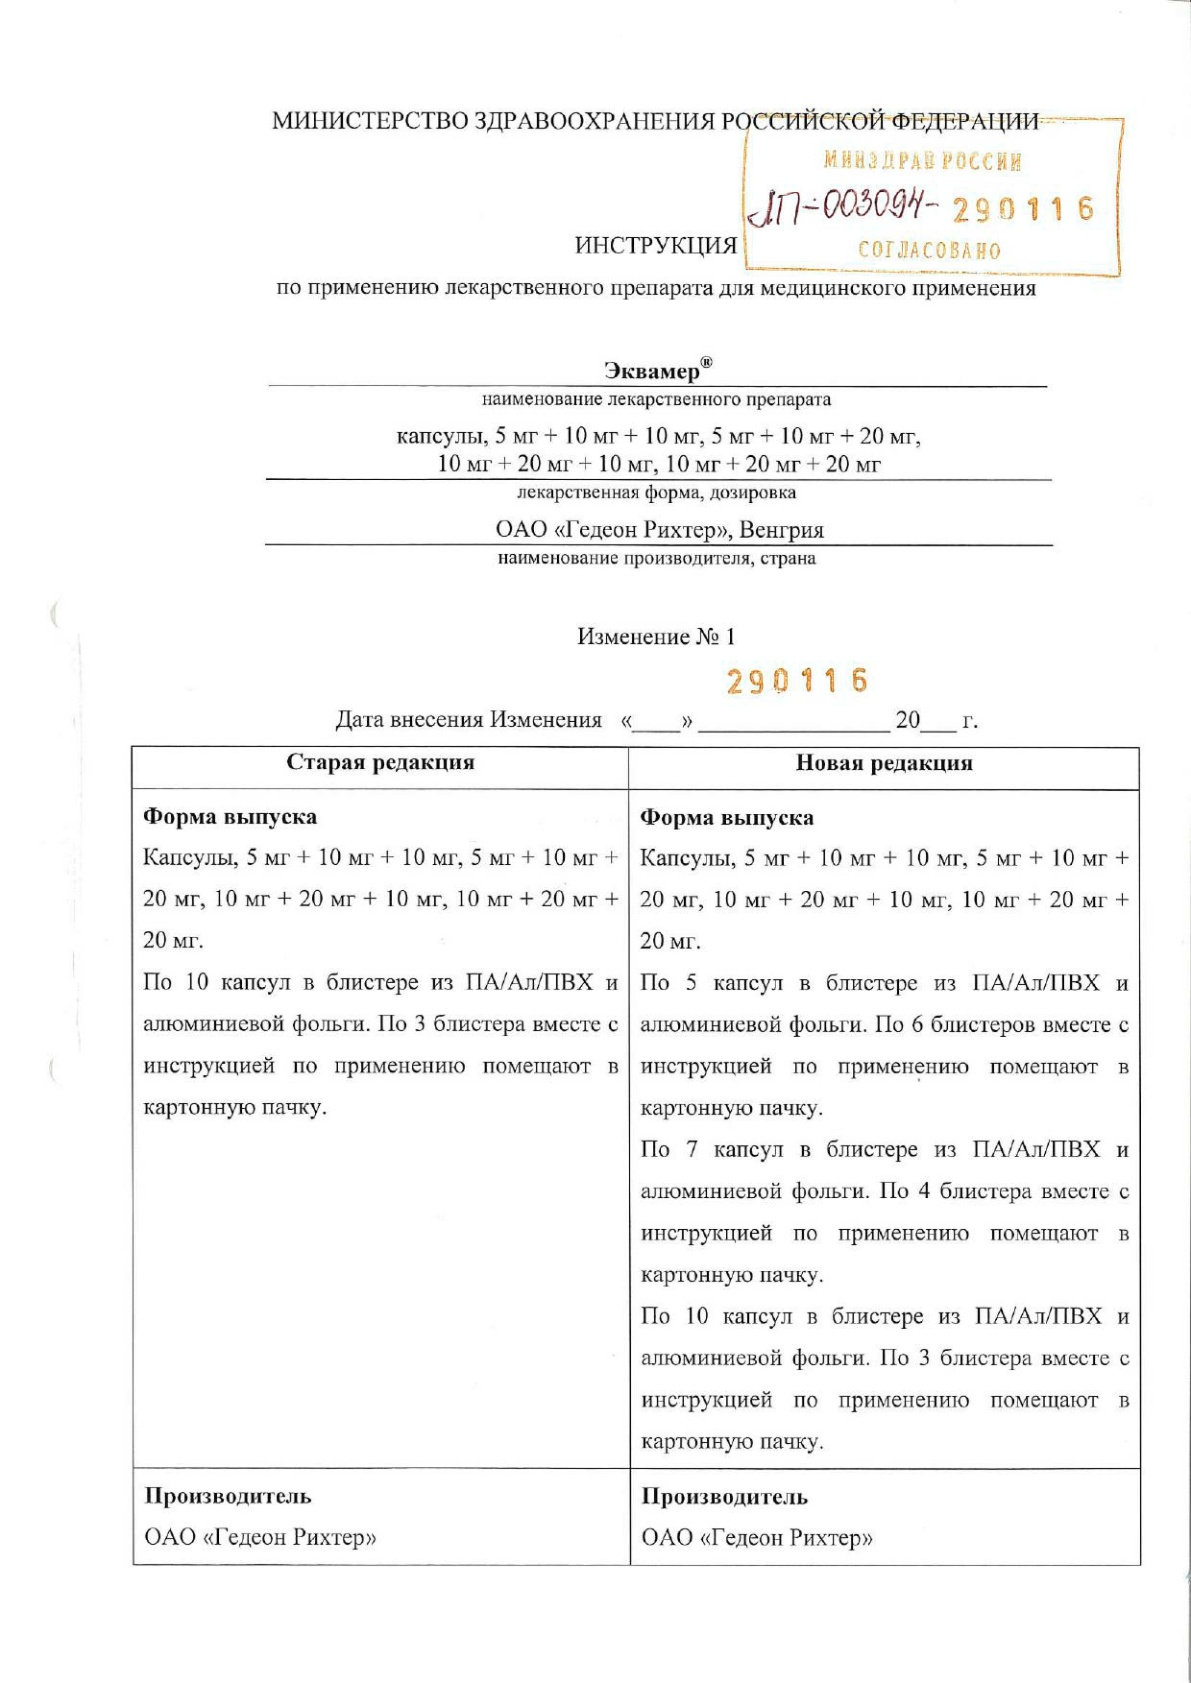full_lined: (130, 745, 1142, 1567)
